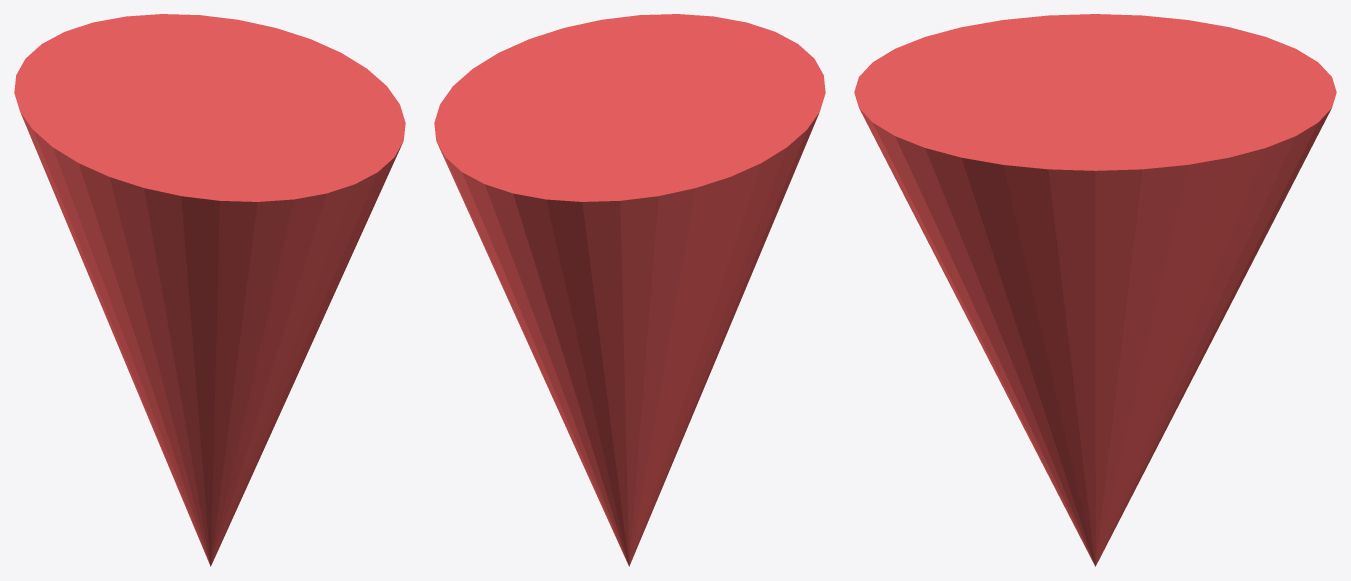
File: kuukihou_reg.fbx
The picture shows the model from 3 angles, left to right: view 1: azimuth 30°, elevation 25°; view 2: azimuth 150°, elevation 25°; view 3: azimuth 270°, elevation 25°; orthographic projection. The views are drawn at different scales.
Parts seen in each view (by area): view 1: 球.007; view 2: 球.007; view 3: 球.007.
Boxes of the visible parts, x1,y1,x2,y2 form: 球.007: (14, 14, 405, 566); 球.007: (434, 14, 825, 566); 球.007: (854, 14, 1336, 566).
Size of the model in its own units: 49.06 by 38.14 by 53.29.
